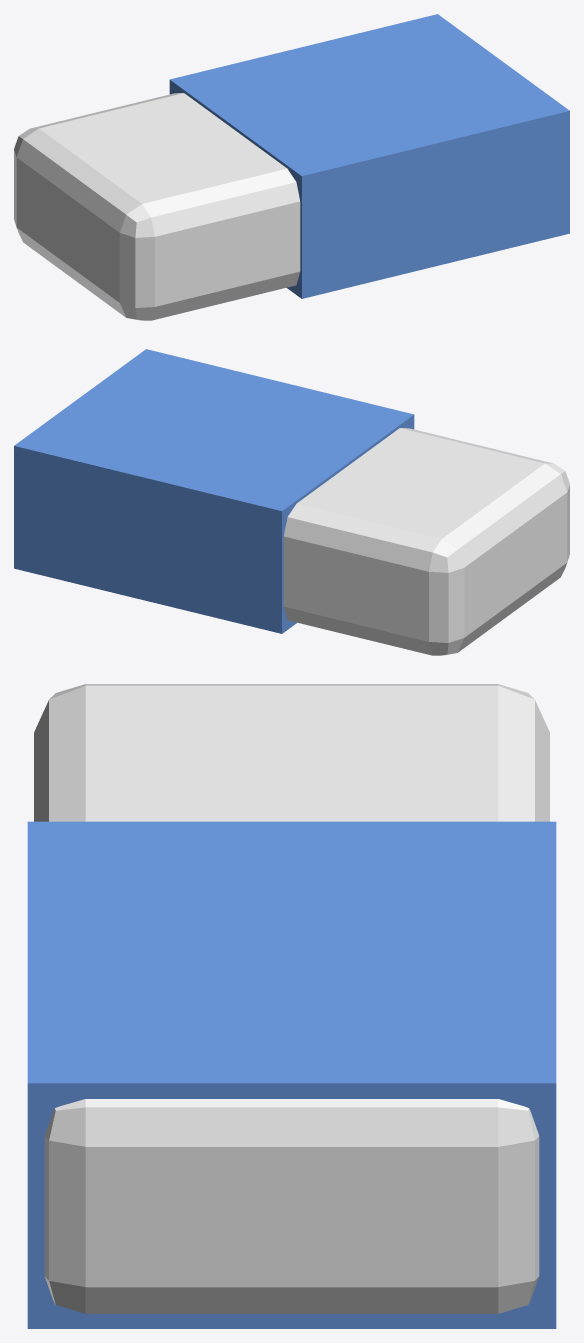
Rendered from eraser.glb.
3 views of the same model, one above another, from view 1: azimuth 30°, elevation 25°; view 2: azimuth 150°, elevation 25°; view 3: azimuth 270°, elevation 25° (orthographic). The views are drawn at different scales.
Visible parts, largest first — view 1: eraser_sleeve, eraser_body; view 2: eraser_sleeve, eraser_body; view 3: eraser_body, eraser_sleeve.
Part boxes in pixels (box(x1,y1,x2,y2)): eraser_sleeve: box(169, 14, 569, 298); eraser_body: box(14, 93, 300, 320); eraser_sleeve: box(14, 349, 414, 633); eraser_body: box(283, 428, 569, 655); eraser_body: box(34, 684, 549, 1313); eraser_sleeve: box(27, 821, 556, 1328).
Bounding box in the file's own units: 0.04 × 0.0105 × 0.0205.
